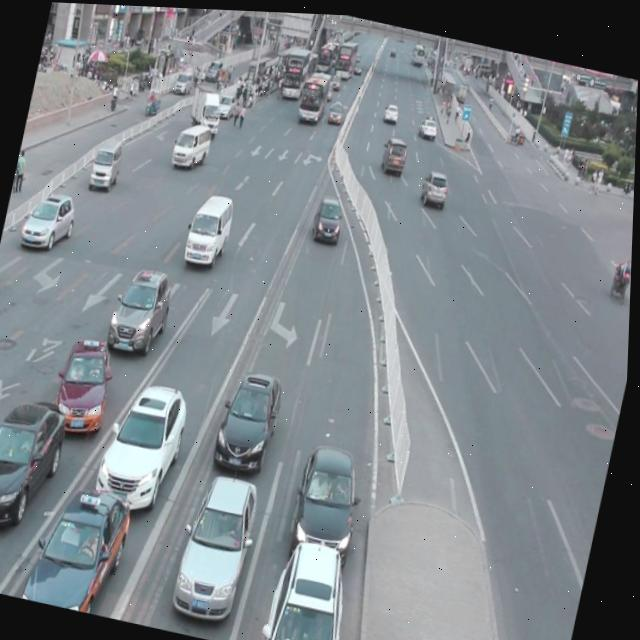car: (23, 466, 141, 617), (172, 457, 268, 621), (95, 367, 197, 514), (263, 524, 367, 640), (0, 381, 76, 536), (289, 429, 373, 557), (213, 357, 290, 473), (52, 326, 124, 438), (105, 254, 180, 357), (20, 183, 83, 256), (310, 189, 348, 243), (0, 507, 2, 590)
truck: (182, 186, 238, 266), (171, 117, 214, 171), (89, 133, 126, 192)
